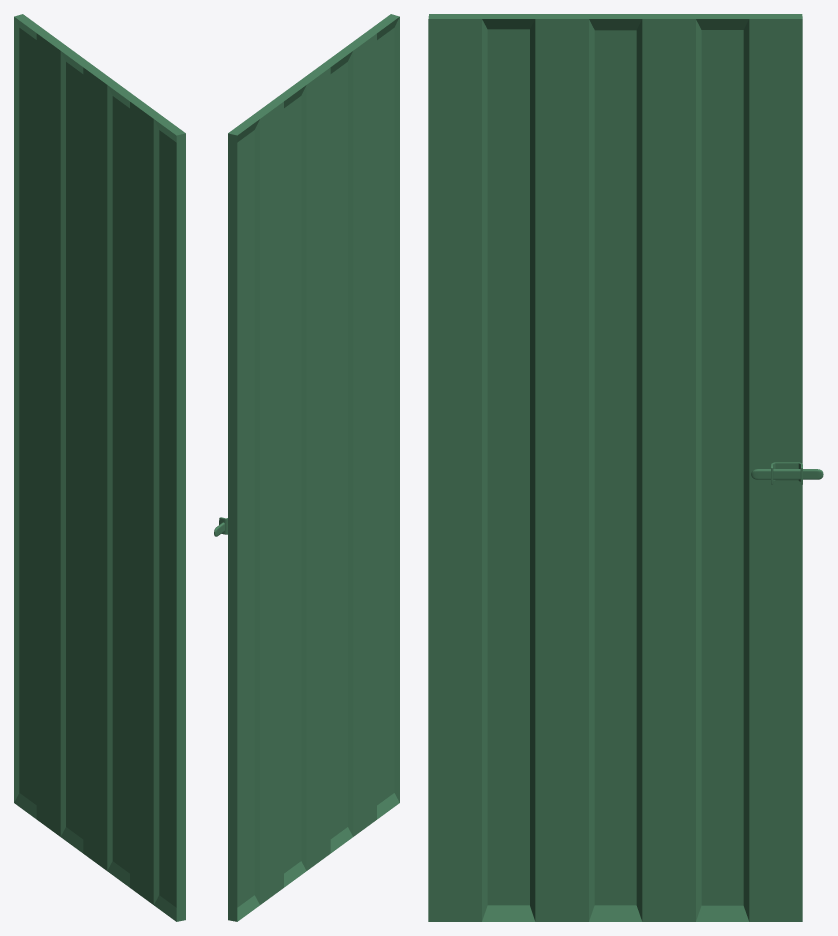
The model's file is porta.fbx.
The picture shows the model from 3 angles, left to right: view 1: azimuth 30°, elevation 25°; view 2: azimuth 150°, elevation 25°; view 3: azimuth 270°, elevation 25°; orthographic projection. The views are drawn at different scales.
Parts seen in each view (by area): view 1: Cubo; view 2: Cubo; view 3: Cubo.
Boxes of the visible parts, x1,y1,x2,y2 form: Cubo: (14, 14, 185, 921); Cubo: (214, 14, 399, 921); Cubo: (428, 14, 823, 921).
Size of the model in its own units: 4.91 by 205 by 81.26.
